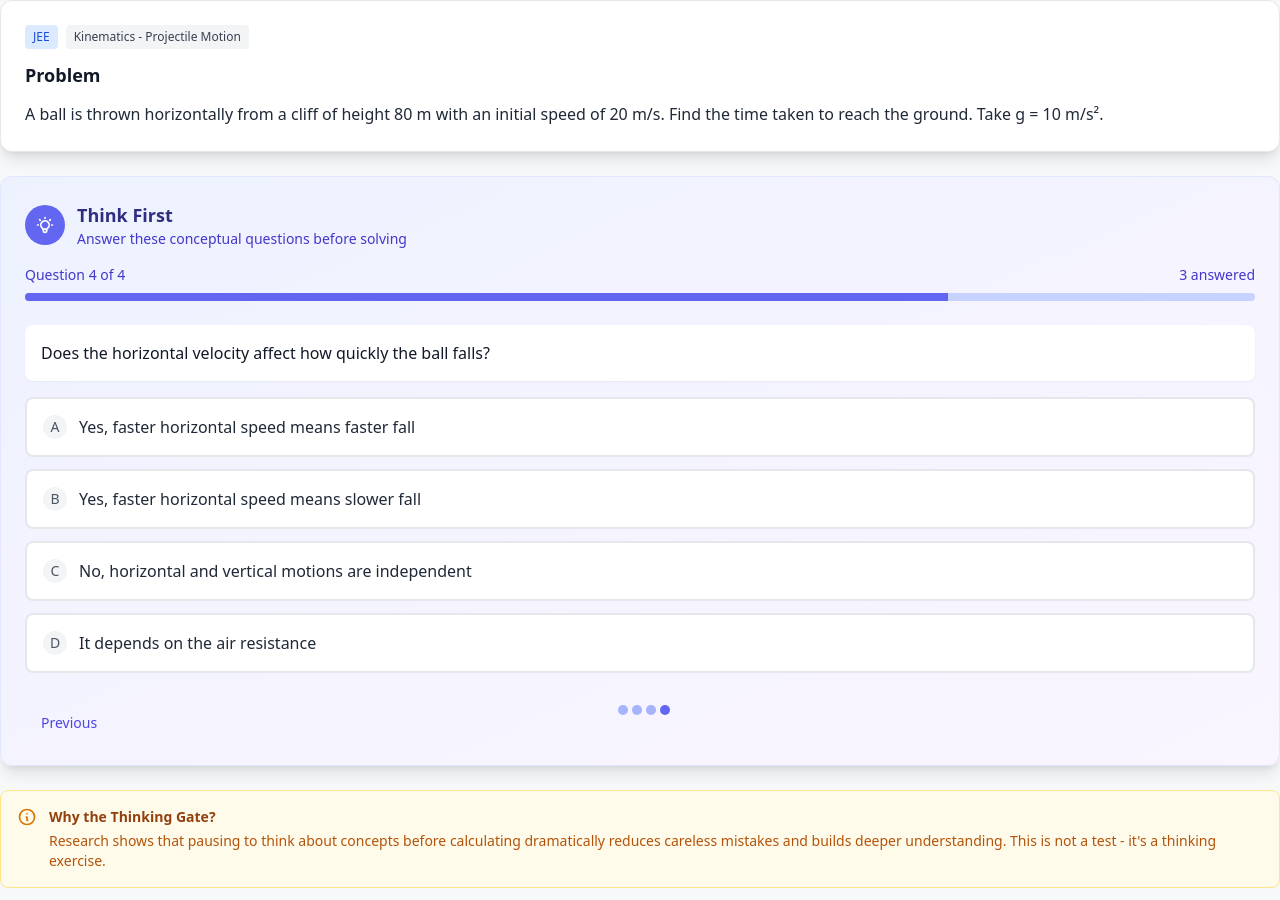
Scenario: DemoThinkingGate › Question Dots Navigation › allows clicking dots to navigate
Note: Click on first dot to go back to question 1
Click the button named "Go to question 1".
click(623, 710)  # box [618,705,628,715]
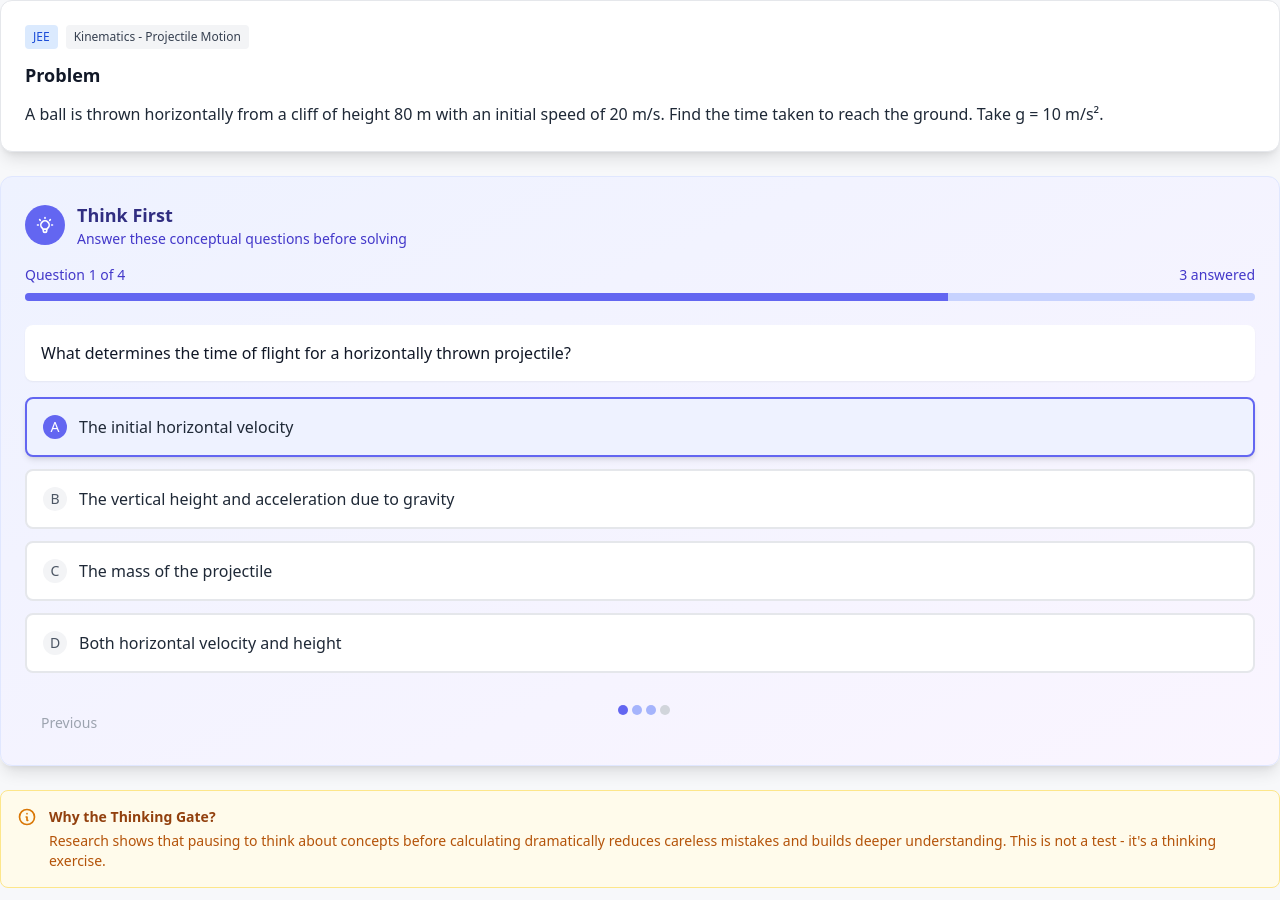
Now the text "What determines the time of flight for a horizontally thrown projectile?" is shown, box [41,342,571,364]
